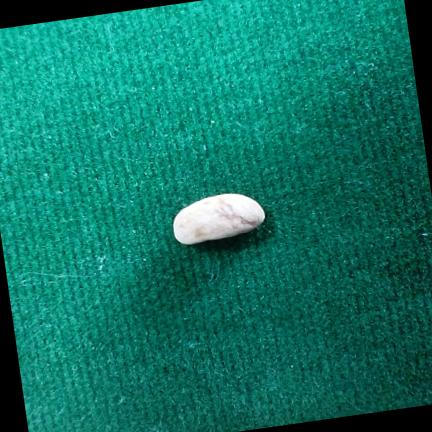shell: (173, 193, 265, 244)
